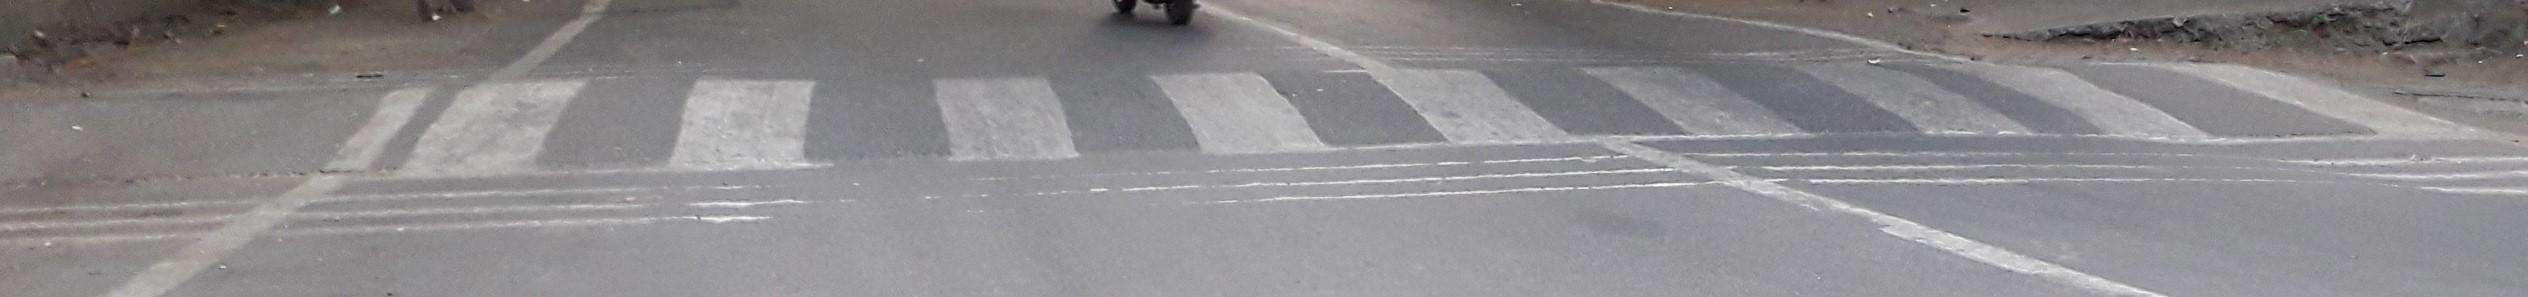speed-bump: (10, 53, 2522, 191)
